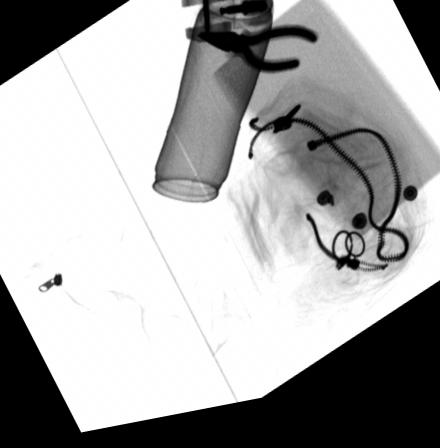Pliers: (196, 35, 320, 84)
